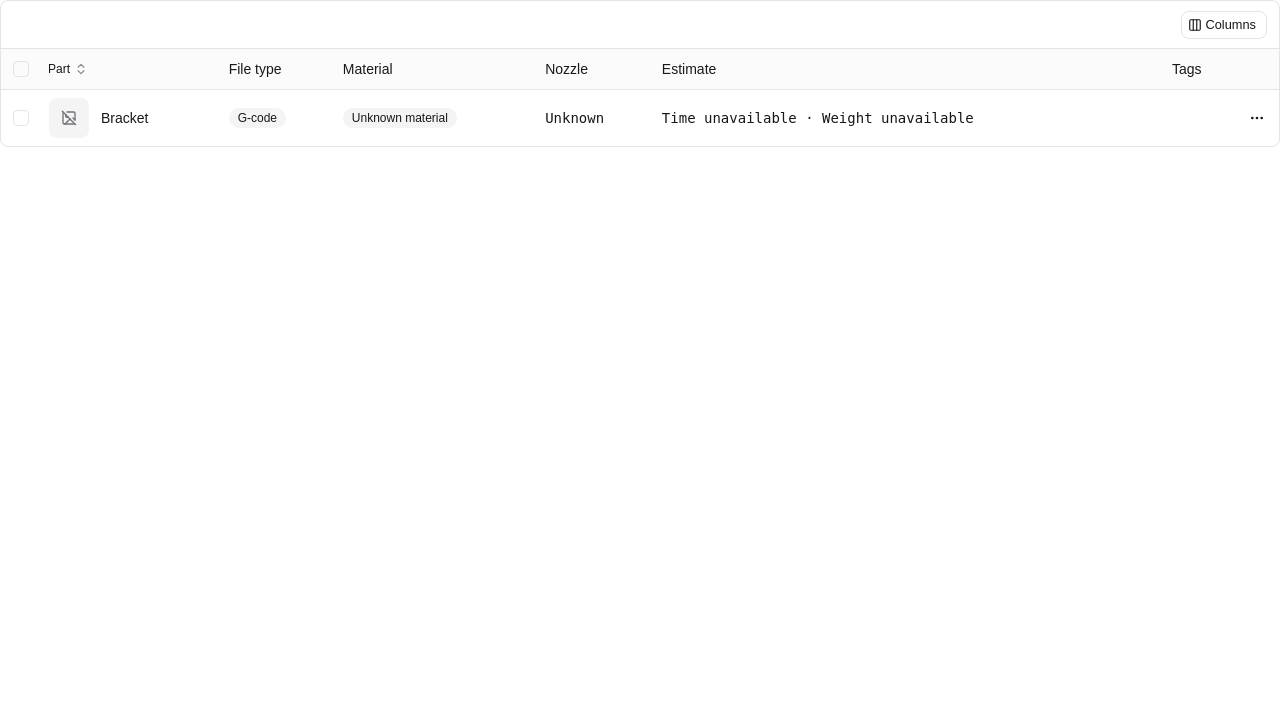
Test: PartsTable queue action › queues the selected part with a chosen quantity and refreshes queue/run lists
Click the button named "Actions for Bracket".
click(1257, 118)  # box [1243,104,1271,132]
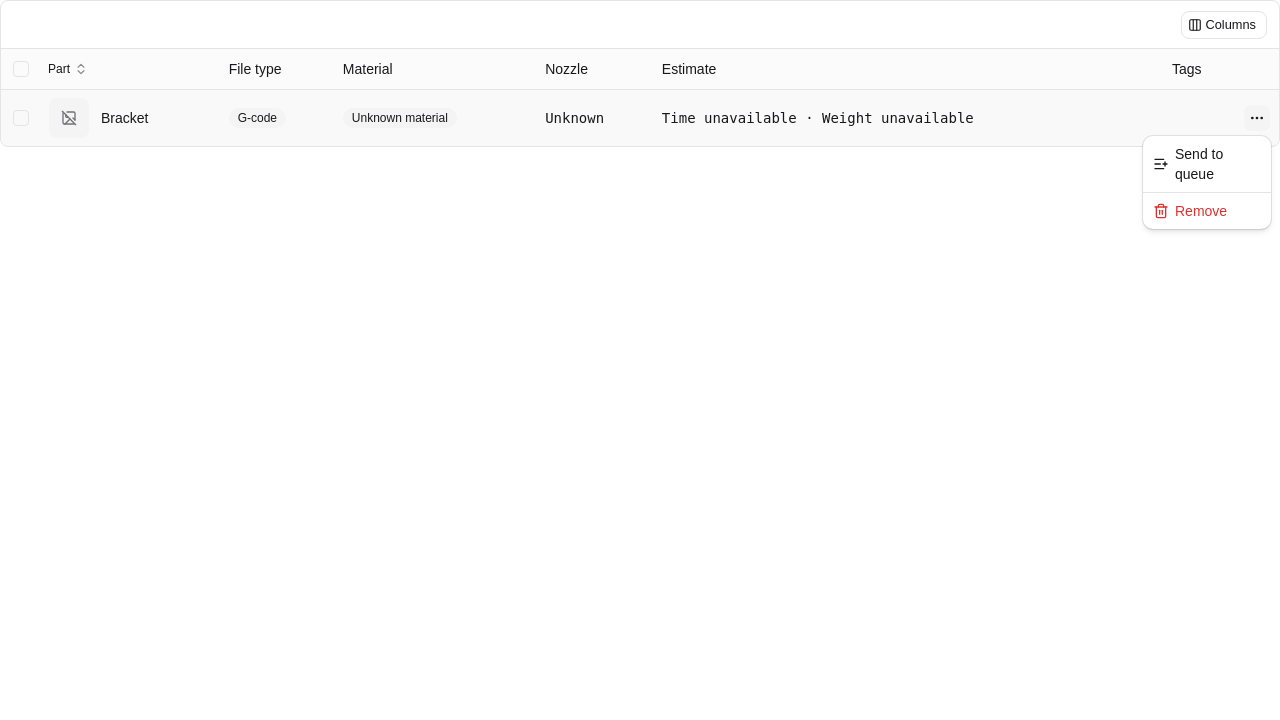
Click the menu item "Send to queue".
click(1188, 164)  # box [1153,146,1223,182]
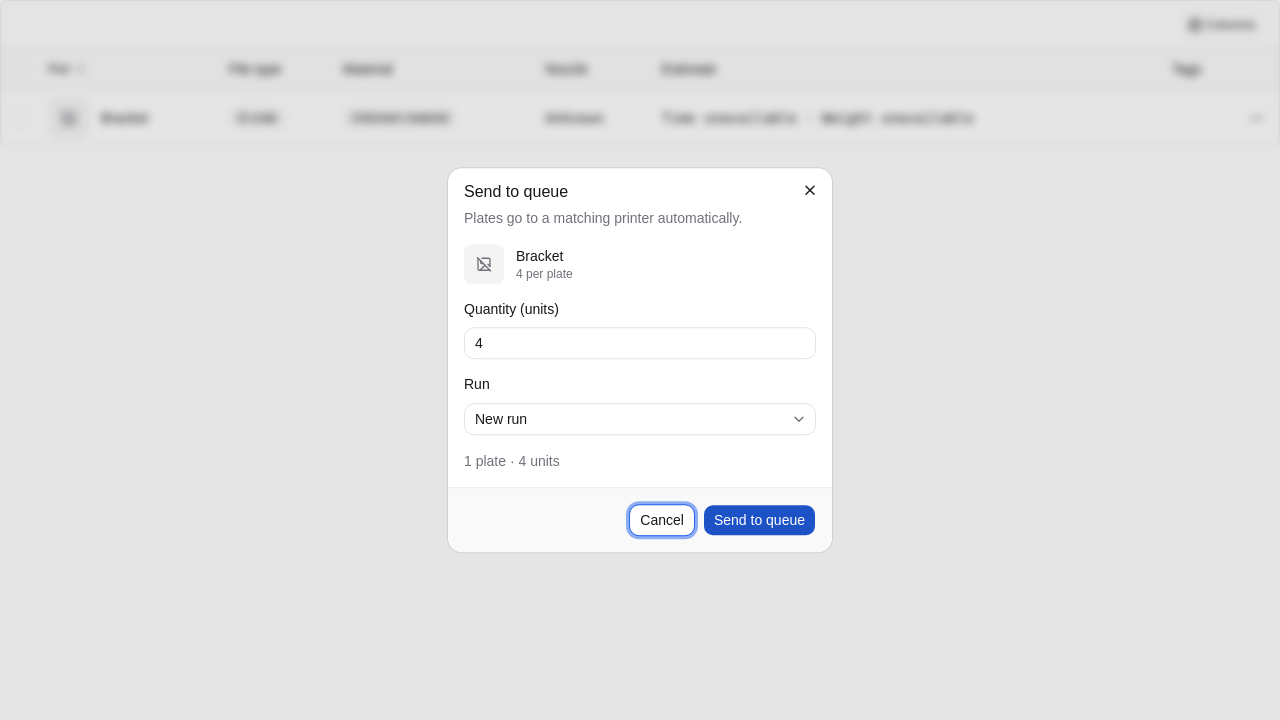
Now the number field labelled "Quantity (units)" holds "4"
Now the text "1 plate · 4 units" is shown, box [464,453,560,469]
Replace the text in the number field labelled "Quantity (units)" with "5" at (640, 344), box [464,328,816,360]
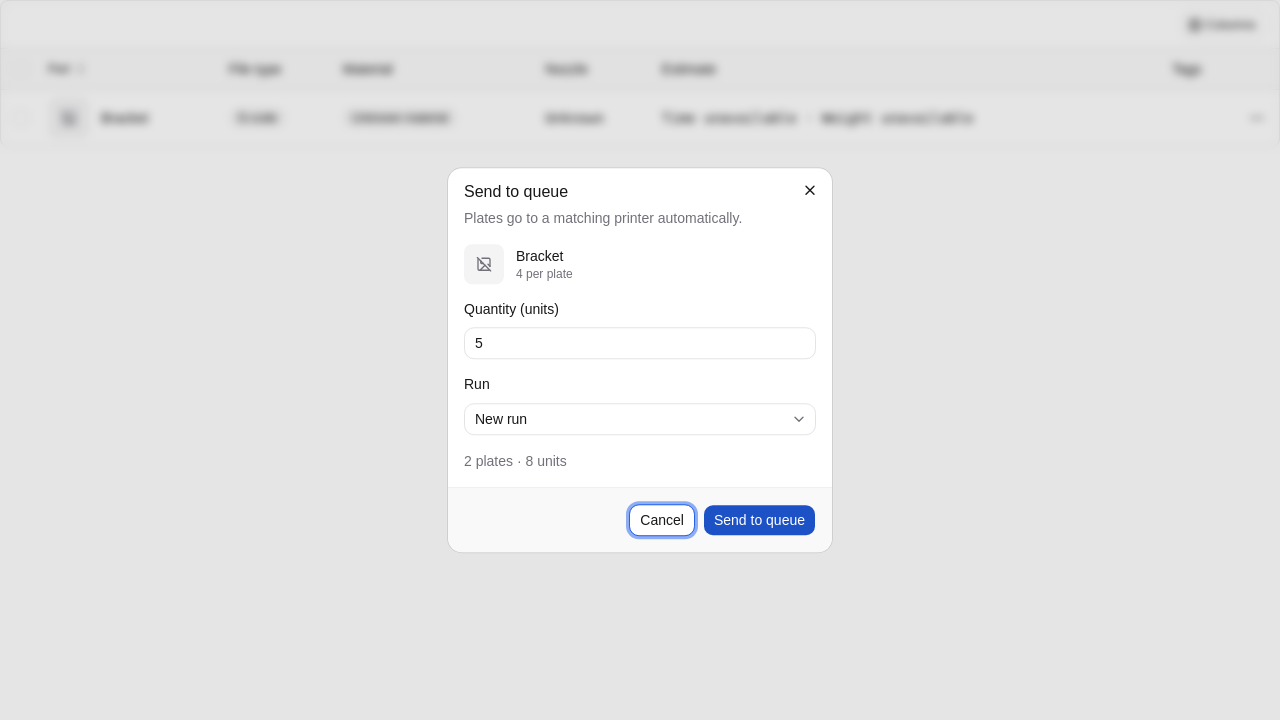
Now the text "2 plates · 8 units" is shown, box [464,453,567,469]
Click the button "Send to queue".
click(759, 520)  # box [703,504,816,536]
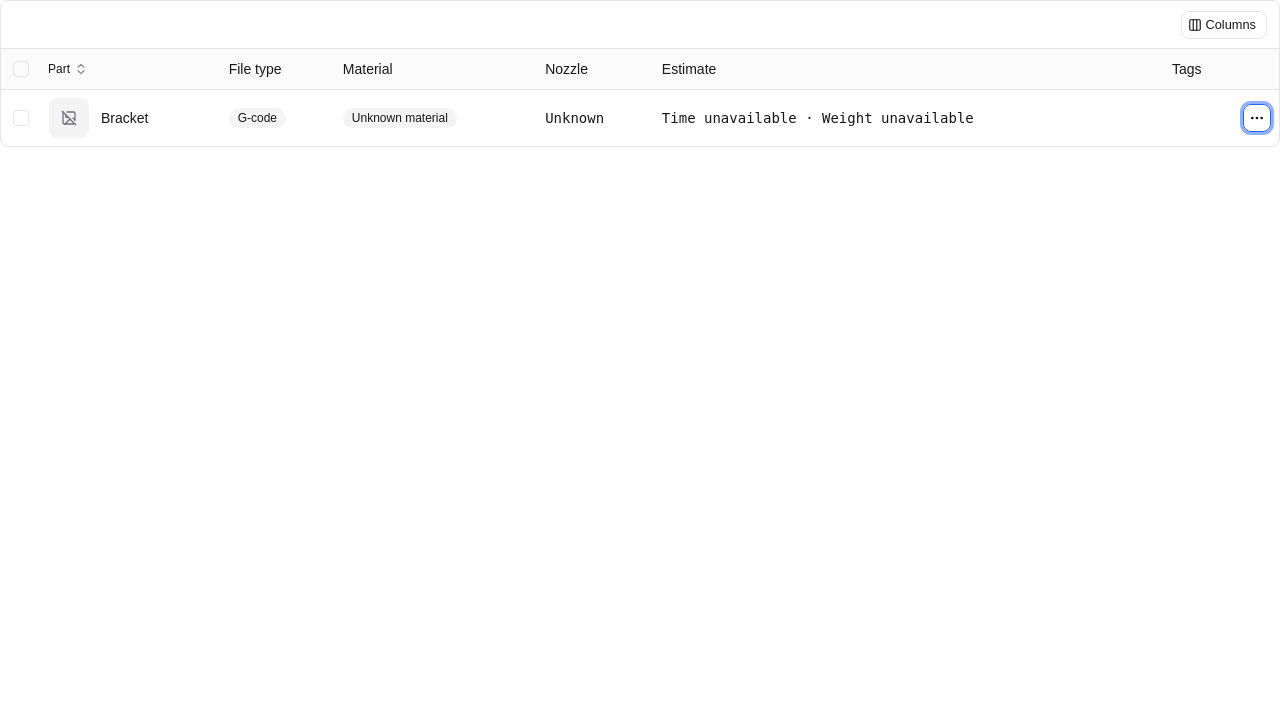
Now the dialog is gone
